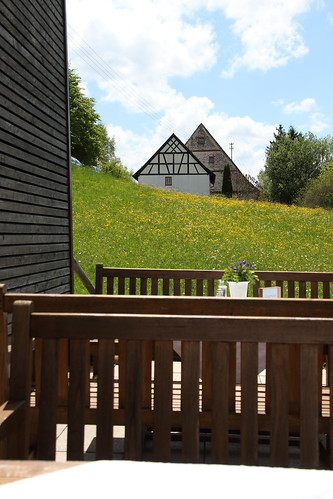building: (145, 114, 254, 203)
grass: (78, 174, 333, 293)
sky: (91, 2, 333, 145)
tree: (255, 135, 333, 208), (72, 80, 112, 167)
wall: (1, 1, 71, 299)
